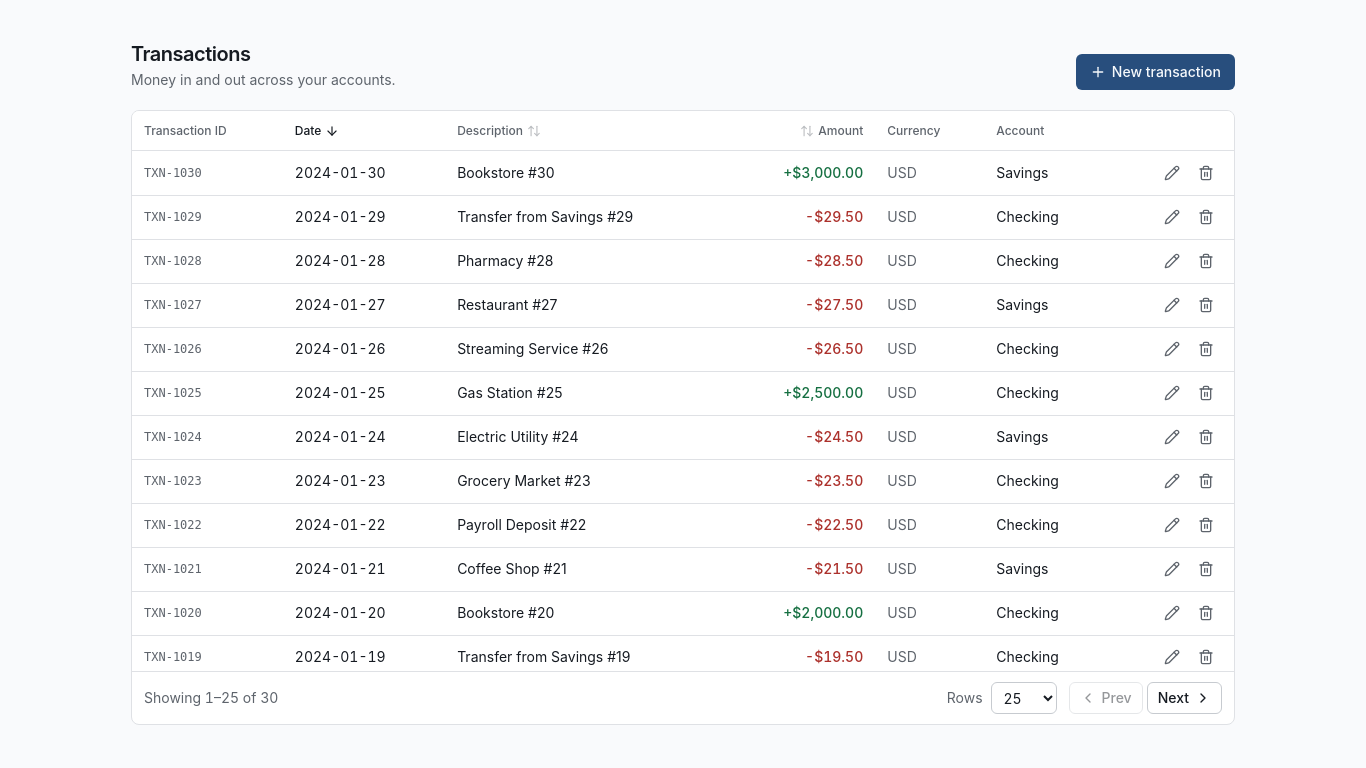
Scenario: TransactionFormDialog › edits an existing transaction with PUT
Expected: the text "TXN-1030" is shown, x1=132 y1=151 x2=283 y2=195
Click the button named "Edit TXN-1030" at (1172, 173), box x1=1156 y1=157 x2=1188 y2=189
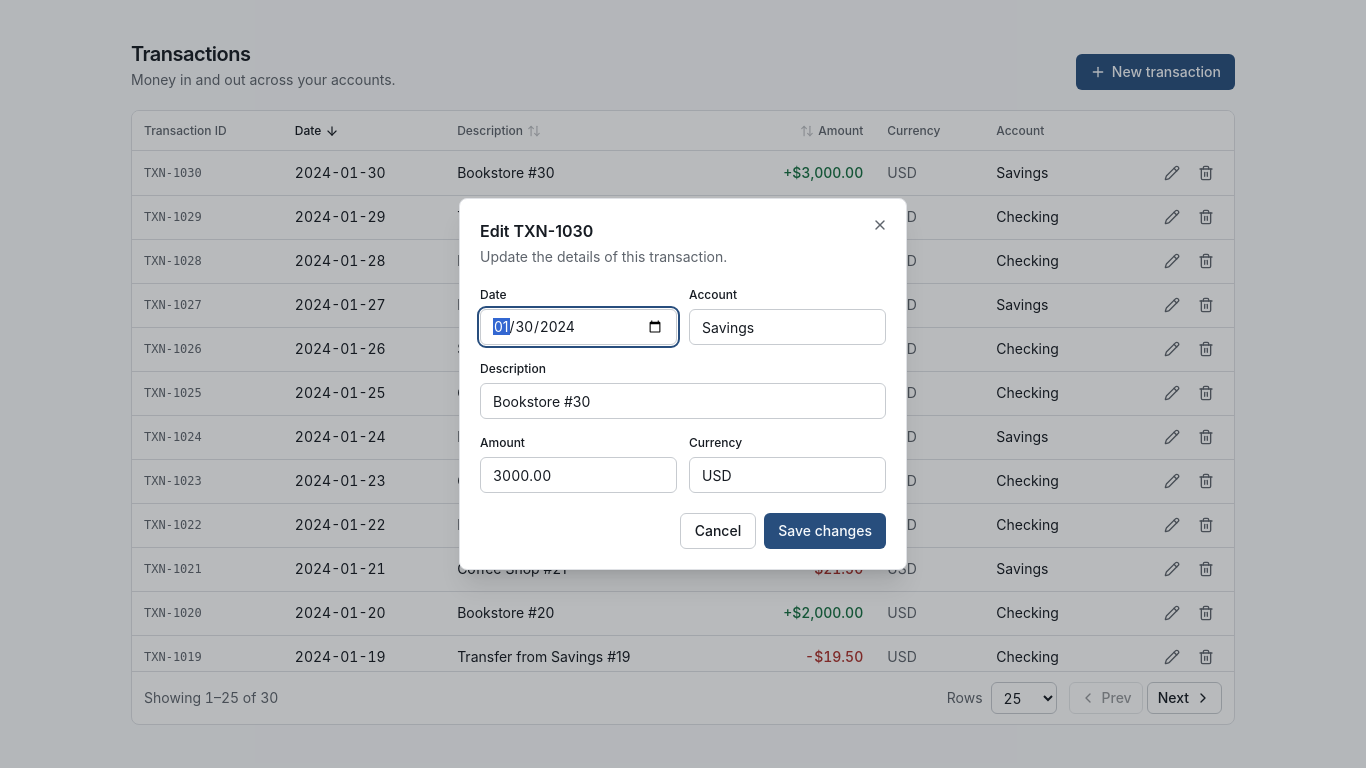
Result: the field labelled "Description" holds "Bookstore #30"
Replace the text in the field labelled "Description" with "Used books" at (683, 401), box x1=480 y1=383 x2=886 y2=419
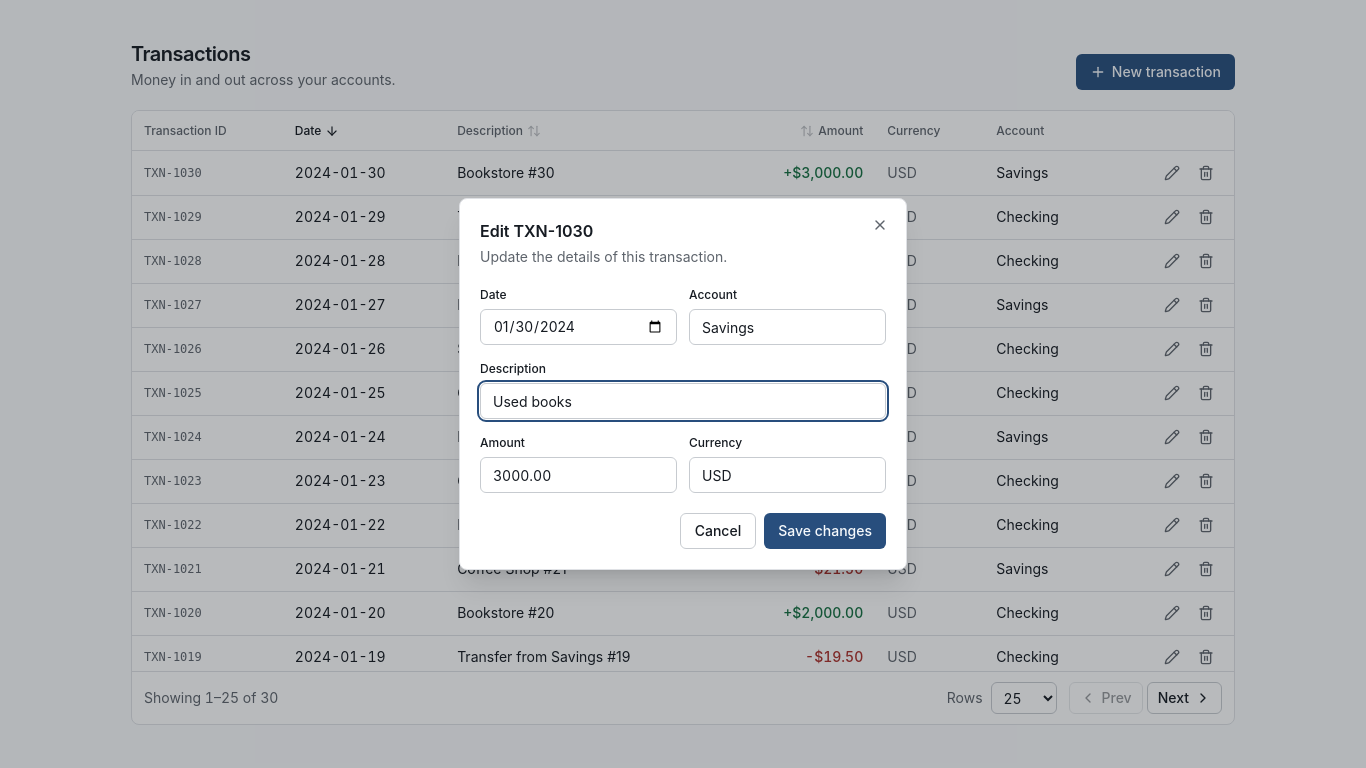
Click the button "Save changes" at (825, 531), box x1=764 y1=513 x2=886 y2=549
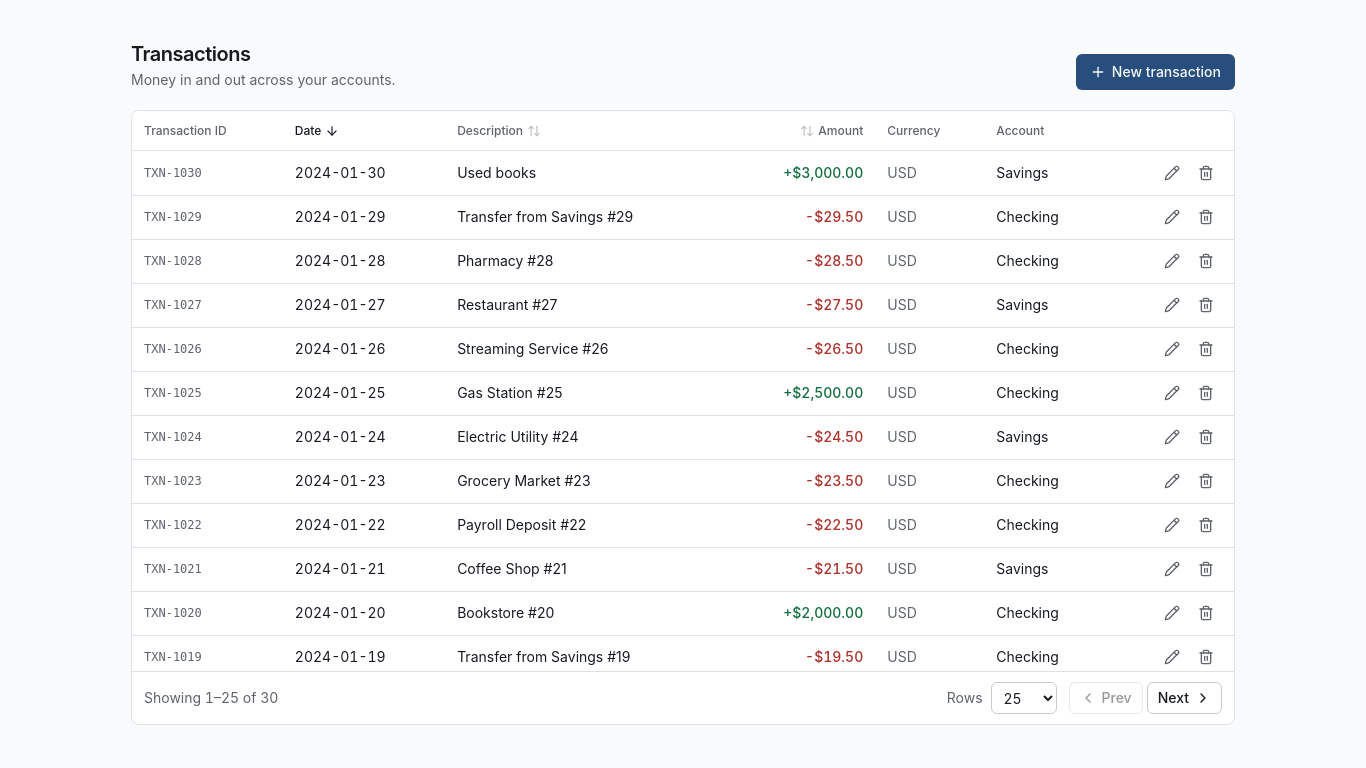
Result: the text "Used books" is shown at x1=445 y1=151 x2=728 y2=195
